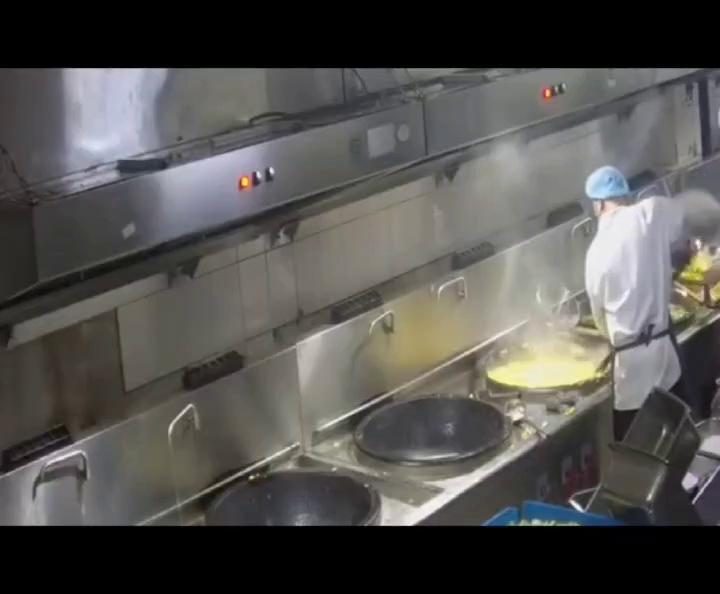gloves: (584, 166, 631, 200)
